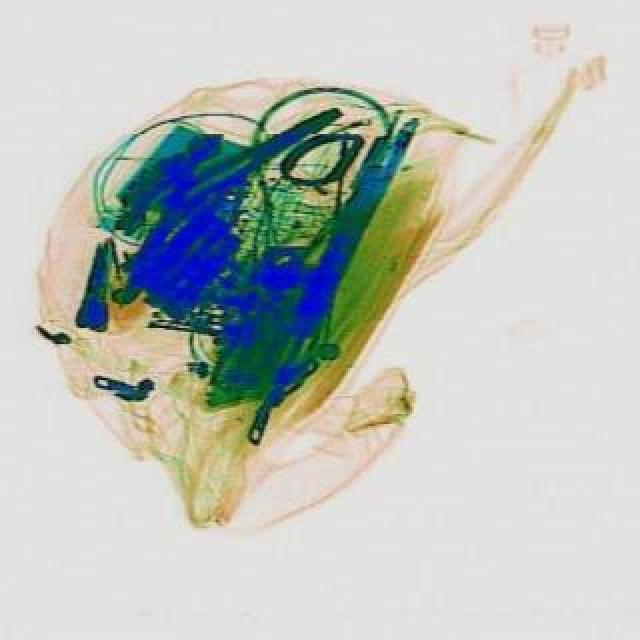wrench: (166, 98, 354, 222)
